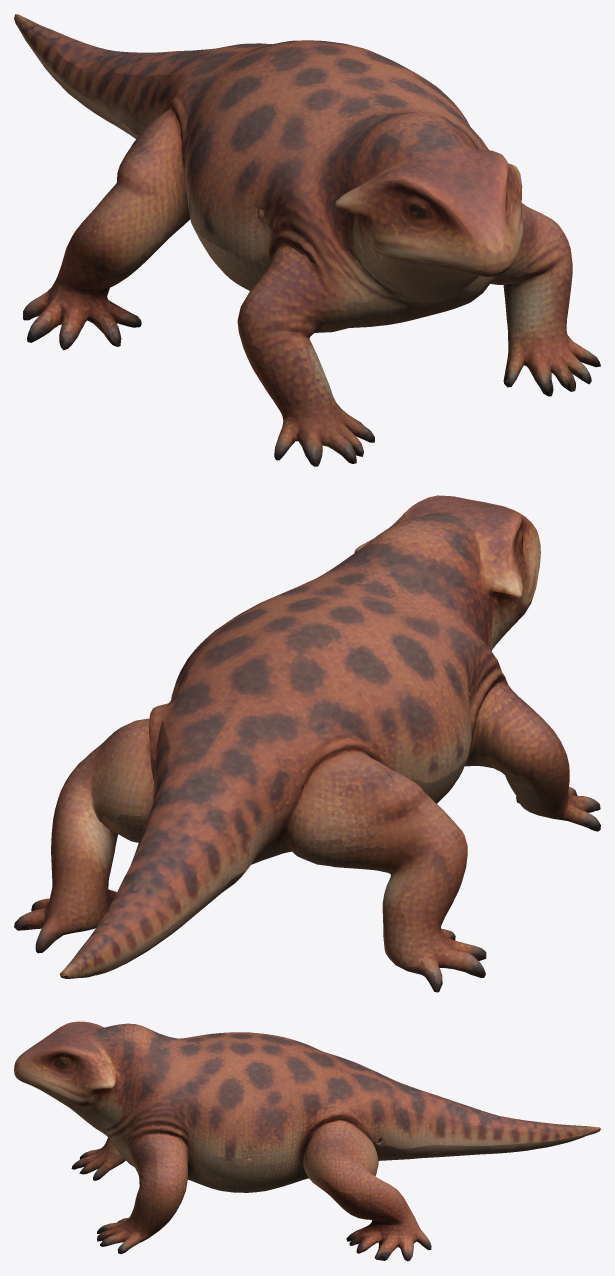
3 views of the same model, one above another, from view 1: azimuth 30°, elevation 25°; view 2: azimuth 150°, elevation 25°; view 3: azimuth 270°, elevation 25° (orthographic). The views are drawn at different scales.
Visible parts, largest first — view 1: Procolophon_local_repair_candidate; view 2: Procolophon_local_repair_candidate; view 3: Procolophon_local_repair_candidate.
Boxes of the visible parts, <box> form: Procolophon_local_repair_candidate: <box>14,14,600,466</box>; Procolophon_local_repair_candidate: <box>14,495,600,992</box>; Procolophon_local_repair_candidate: <box>14,1021,600,1261</box>.
Size of the model in its own units: 0.5024 by 0.3364 by 1.
1 material, 1 textured.
